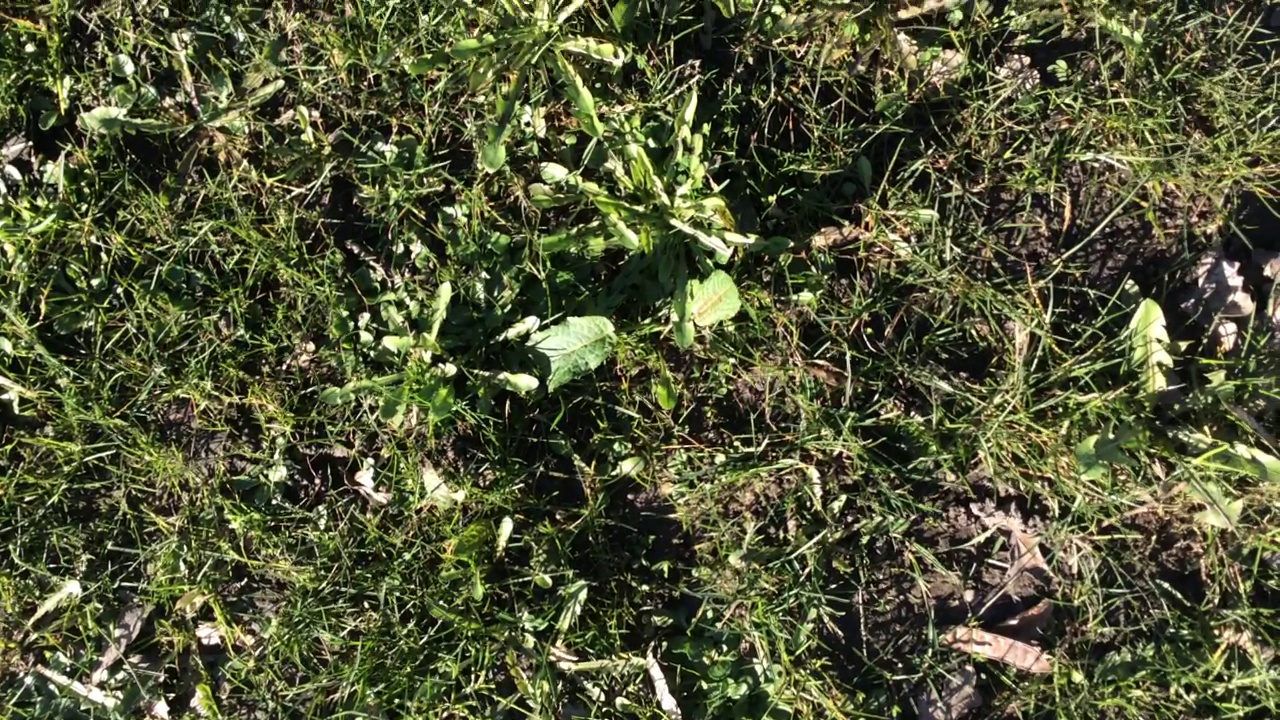rumex: (512, 315, 613, 385), (669, 268, 742, 331)
